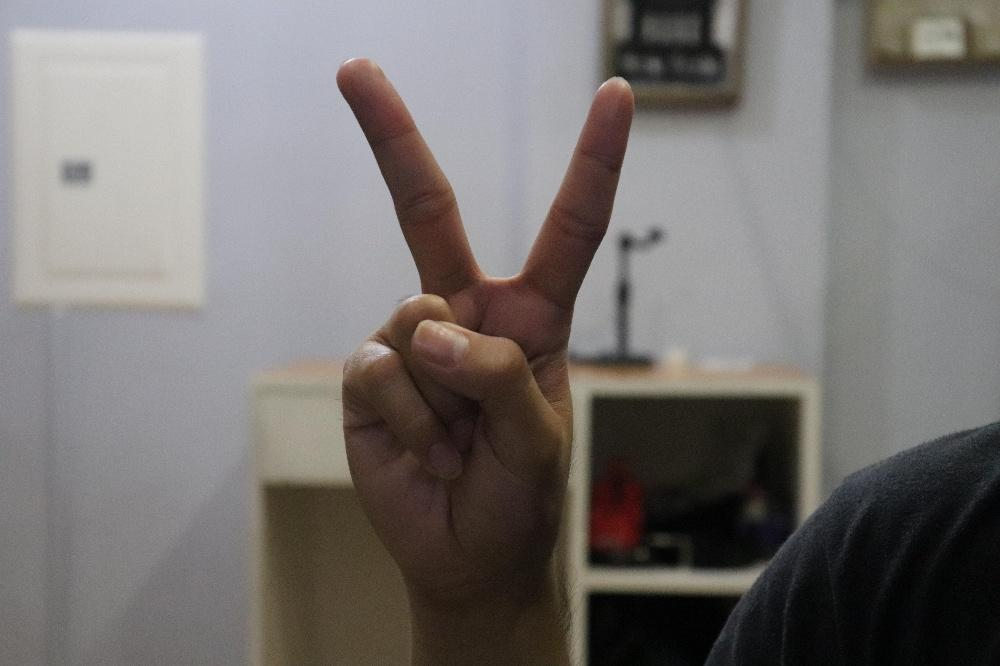v: (335, 54, 634, 597)
